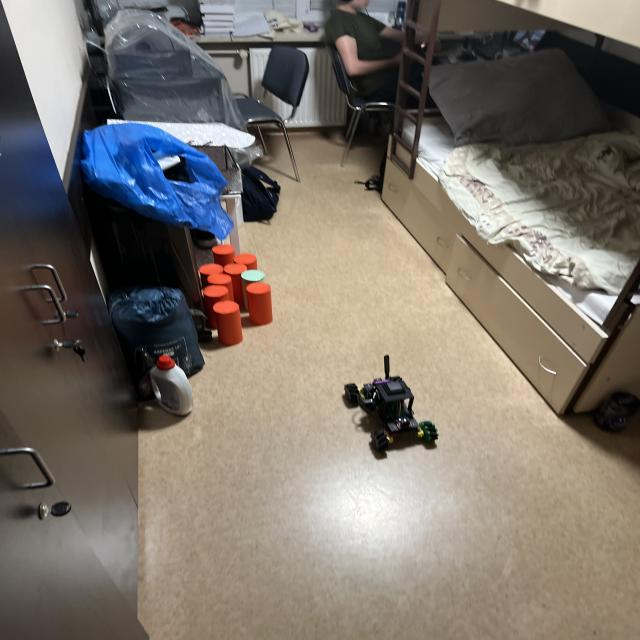robot: (343, 355, 438, 451)
